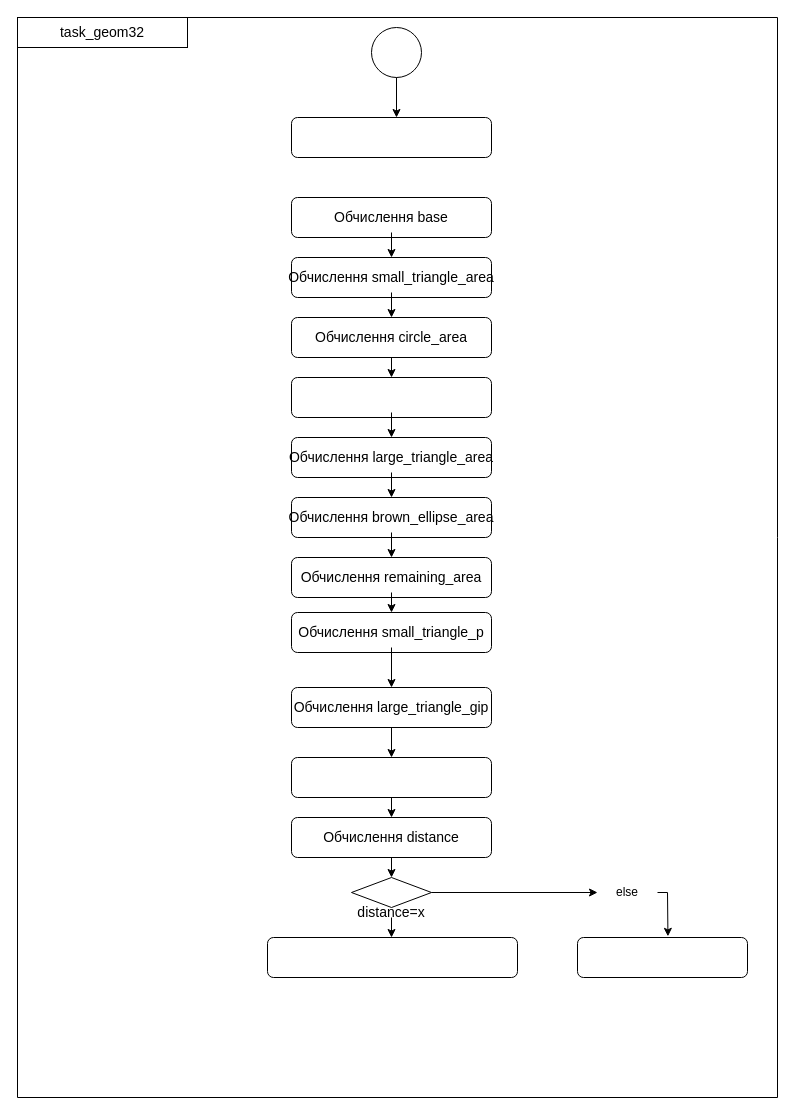
This 796x1116 diagram has some shape labels left out. The box of each missing label's shape, as (x1, y1, x2, y2) in pixels:
Введення значень radius, x, y.: (290, 116, 492, 158)
Виведення значень площин та те що х належить 1 чверті: (266, 936, 518, 978)
Виведення значень площин та те що х не належить 1 чверті: (576, 936, 748, 978)
Обчислення large_triangle_p: (290, 756, 492, 798)
Обчислення quarter_circle_area: (290, 376, 492, 418)
